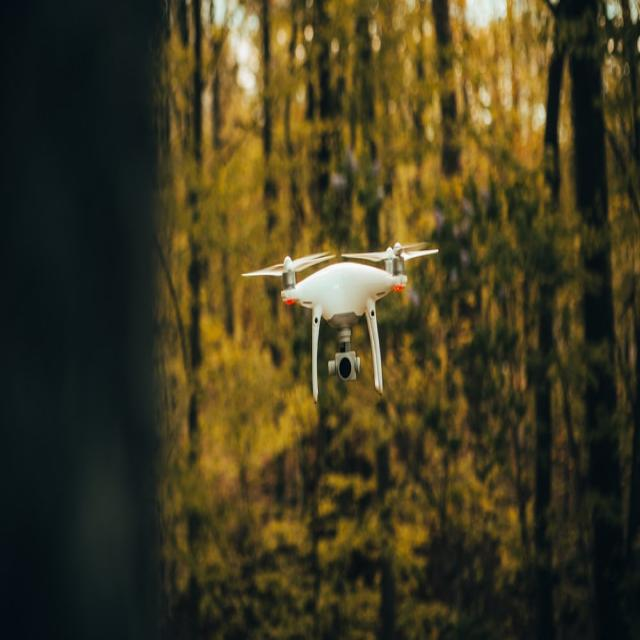drone: (238, 245, 452, 405)
